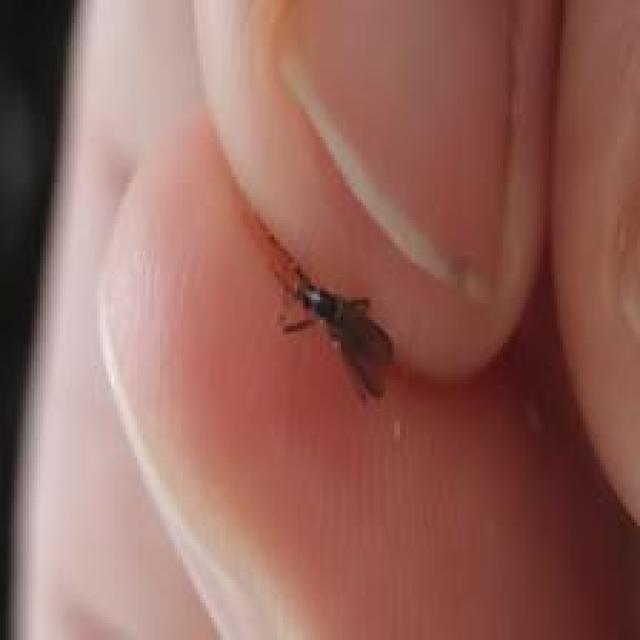Aedes albopictus: (249, 210, 397, 404)
